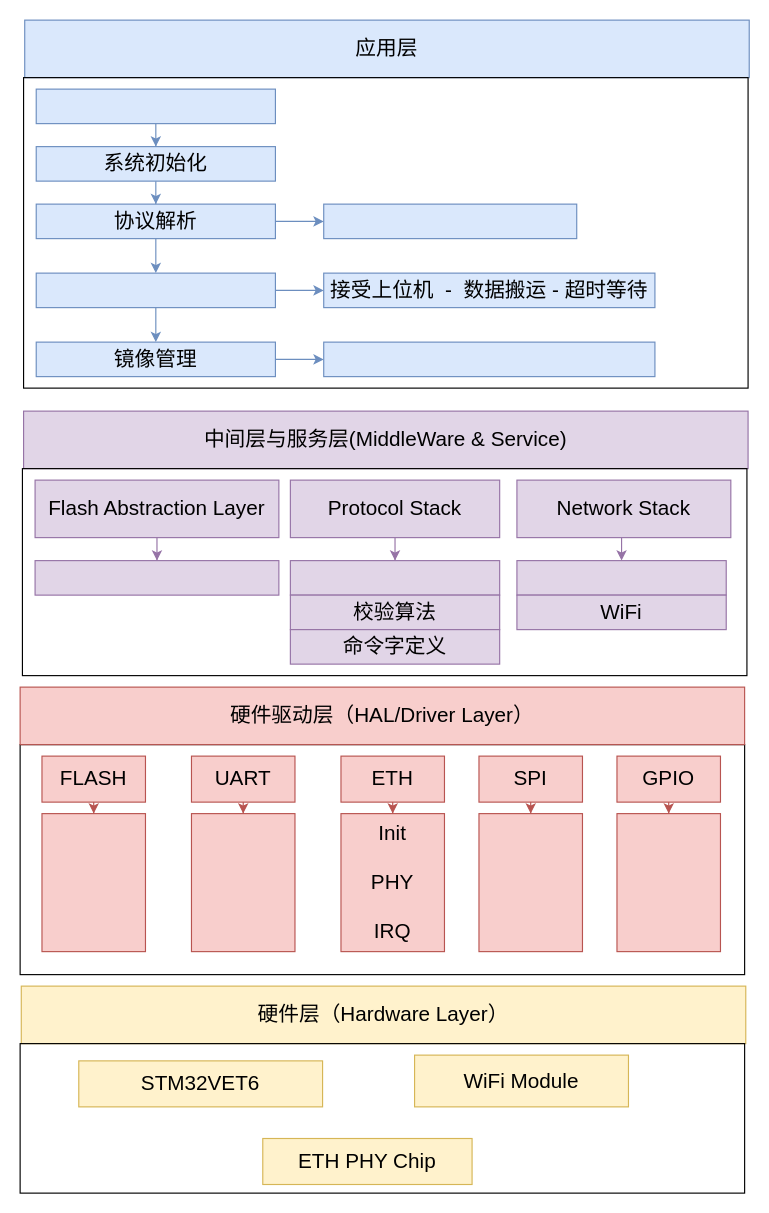
Some shapes in this 769 by 1213 pixel diagram are drawn without their labels. Each missing label, with the centre of its shape:
"AB区状态检查 + 跳转控制" goes at pixel 489 359.
"BootLoader" goes at pixel 155 106.
"CRC校验 自定义MOD" goes at pixel 450 221.
"IAP/OTA核心逻辑" goes at pixel 155 290.
"Init CS IRQ" goes at pixel 530 882.
"LwIP" goes at pixel 621 577.
"Read Write Erase" goes at pixel 93 882.
"Set Read IRQ" goes at pixel 668 882.
"Tx/Rx DMA IRQ" goes at pixel 242 882.
"组包/拆包" goes at pixel 394 577.
"逻辑分区映射" goes at pixel 156 577.
